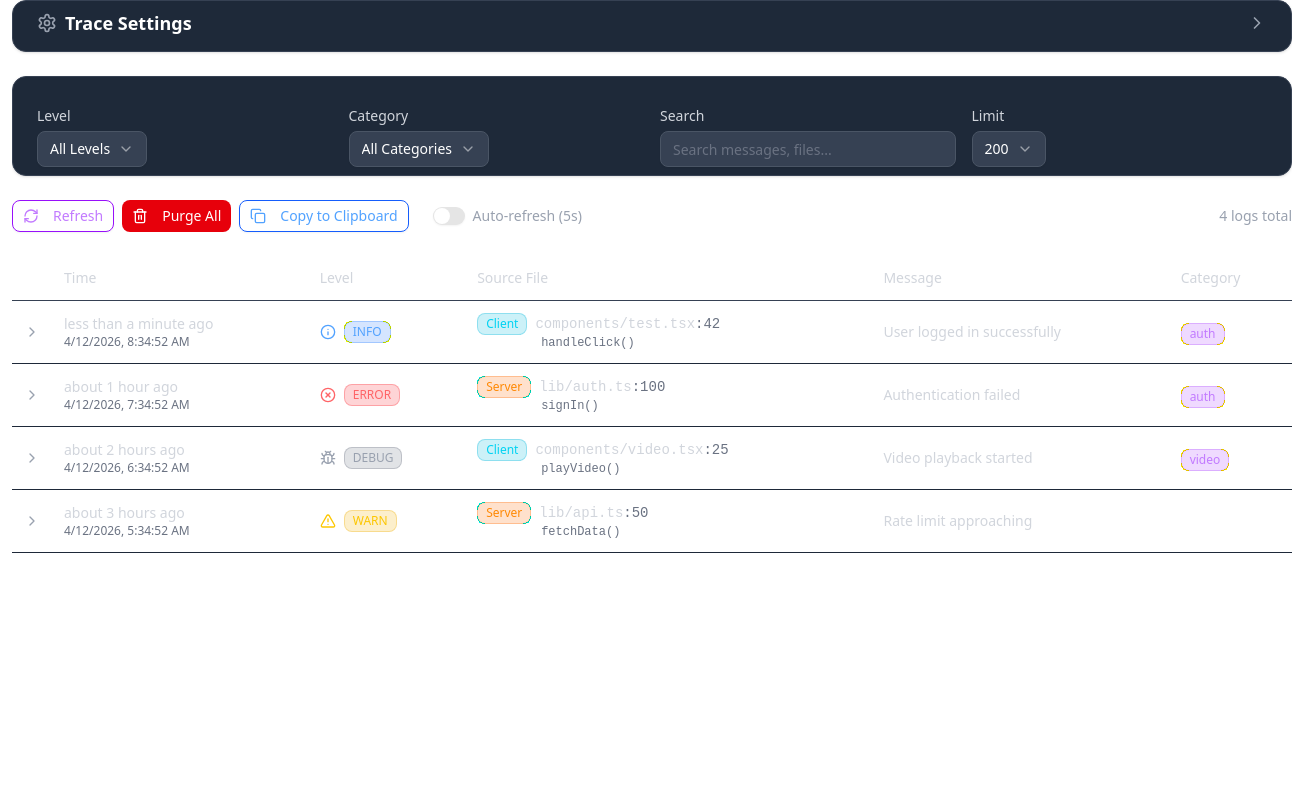
Scenario: TraceDashboard › should expand and collapse log rows when clicked
This screenshot has width=1304, height=800.
Expected: the text "User logged in successfully" is shown, x1=883 y1=322 x2=1061 y2=341
Click the text "User logged in successfully".
click(652, 332)  # box x1=12 y1=300 x2=1292 y2=364
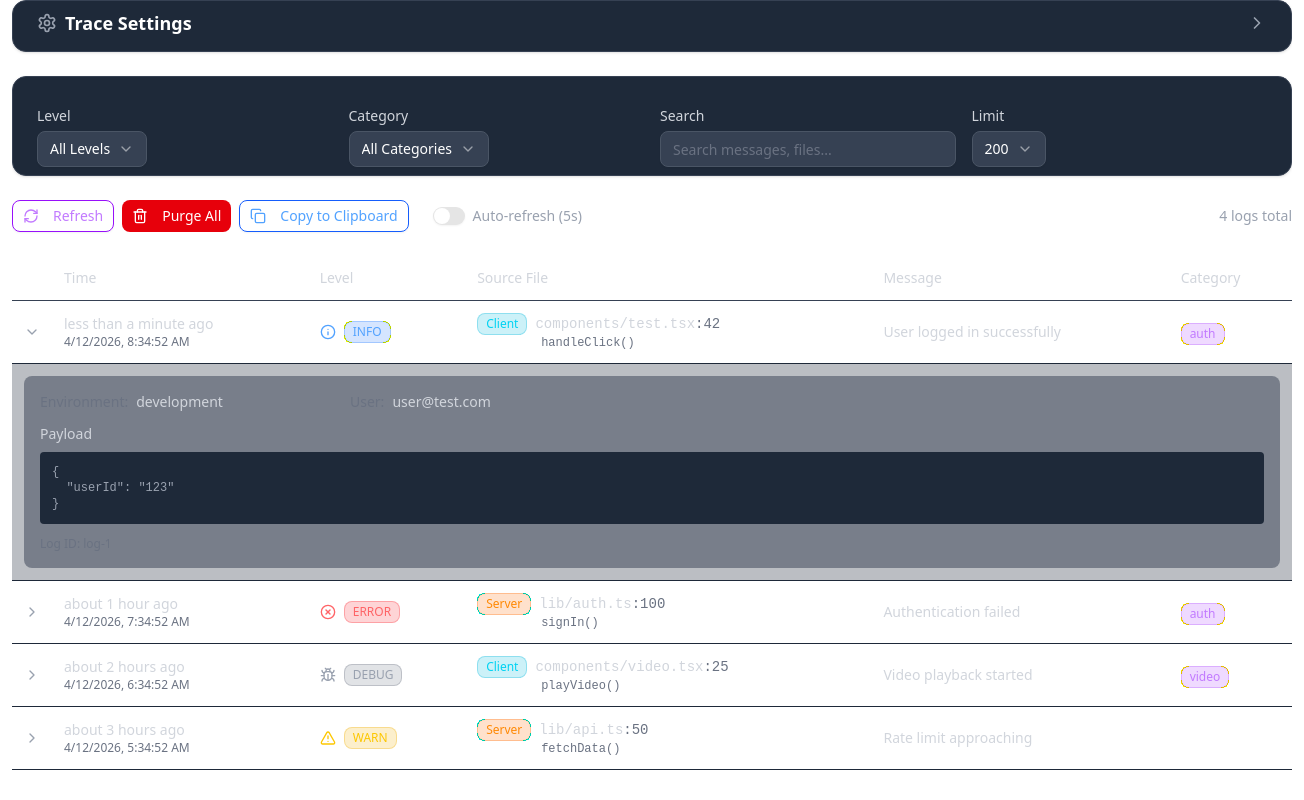
Now the text "Payload" is shown, box x1=40 y1=424 x2=92 y2=443
Note: Click again to collapse
Click the text "User logged in successfully".
click(652, 332)  # box x1=12 y1=300 x2=1292 y2=364
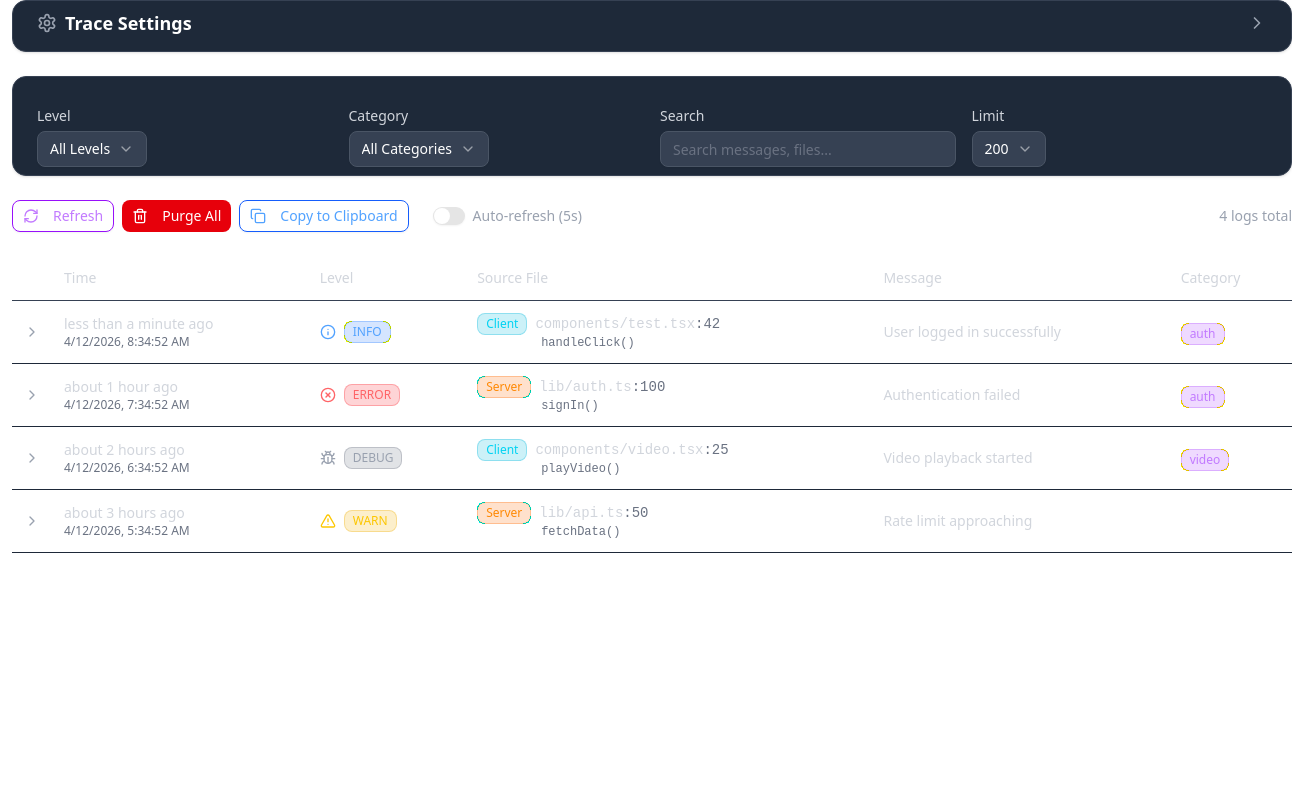
Now the text "Payload" is gone
